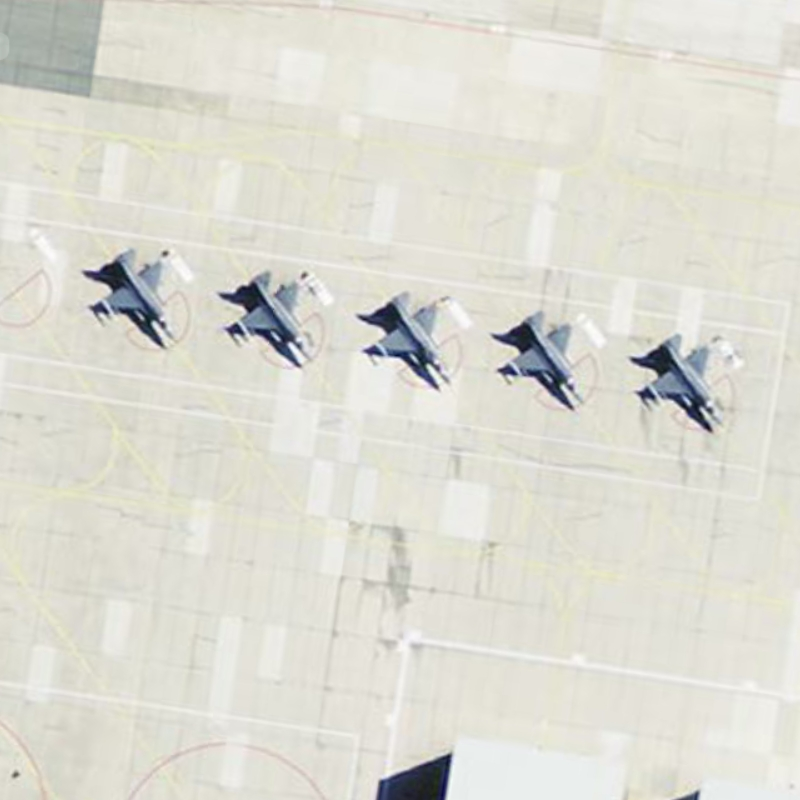A5: (86, 241, 185, 348), (632, 327, 730, 432), (493, 304, 590, 410), (359, 288, 455, 390), (227, 266, 321, 370)
